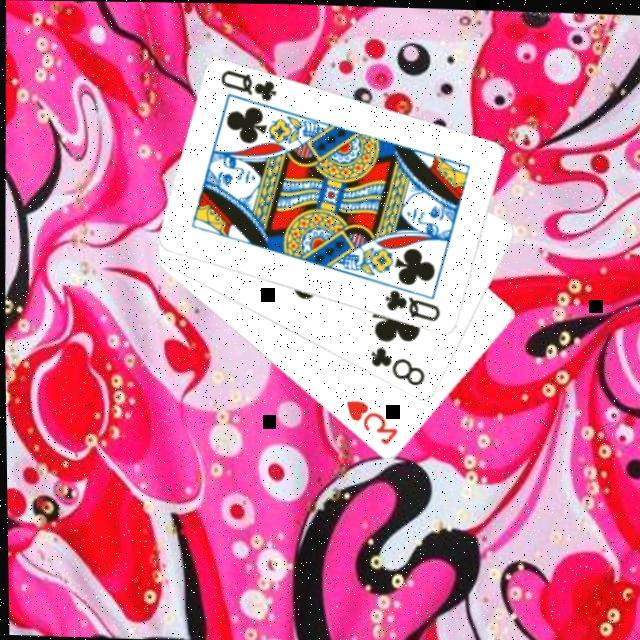3H: (340, 397, 400, 449)
8C: (363, 344, 427, 390)
QC: (378, 287, 441, 325), (215, 67, 278, 105)
